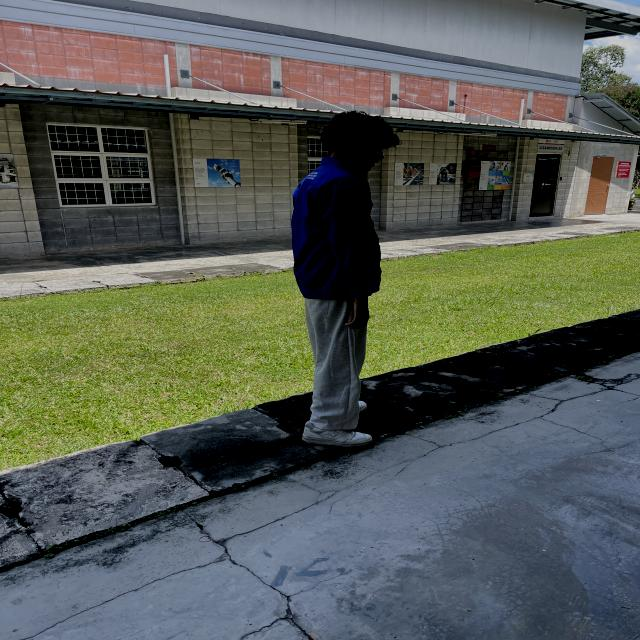person_with_labcoat: (291, 111, 399, 448)
